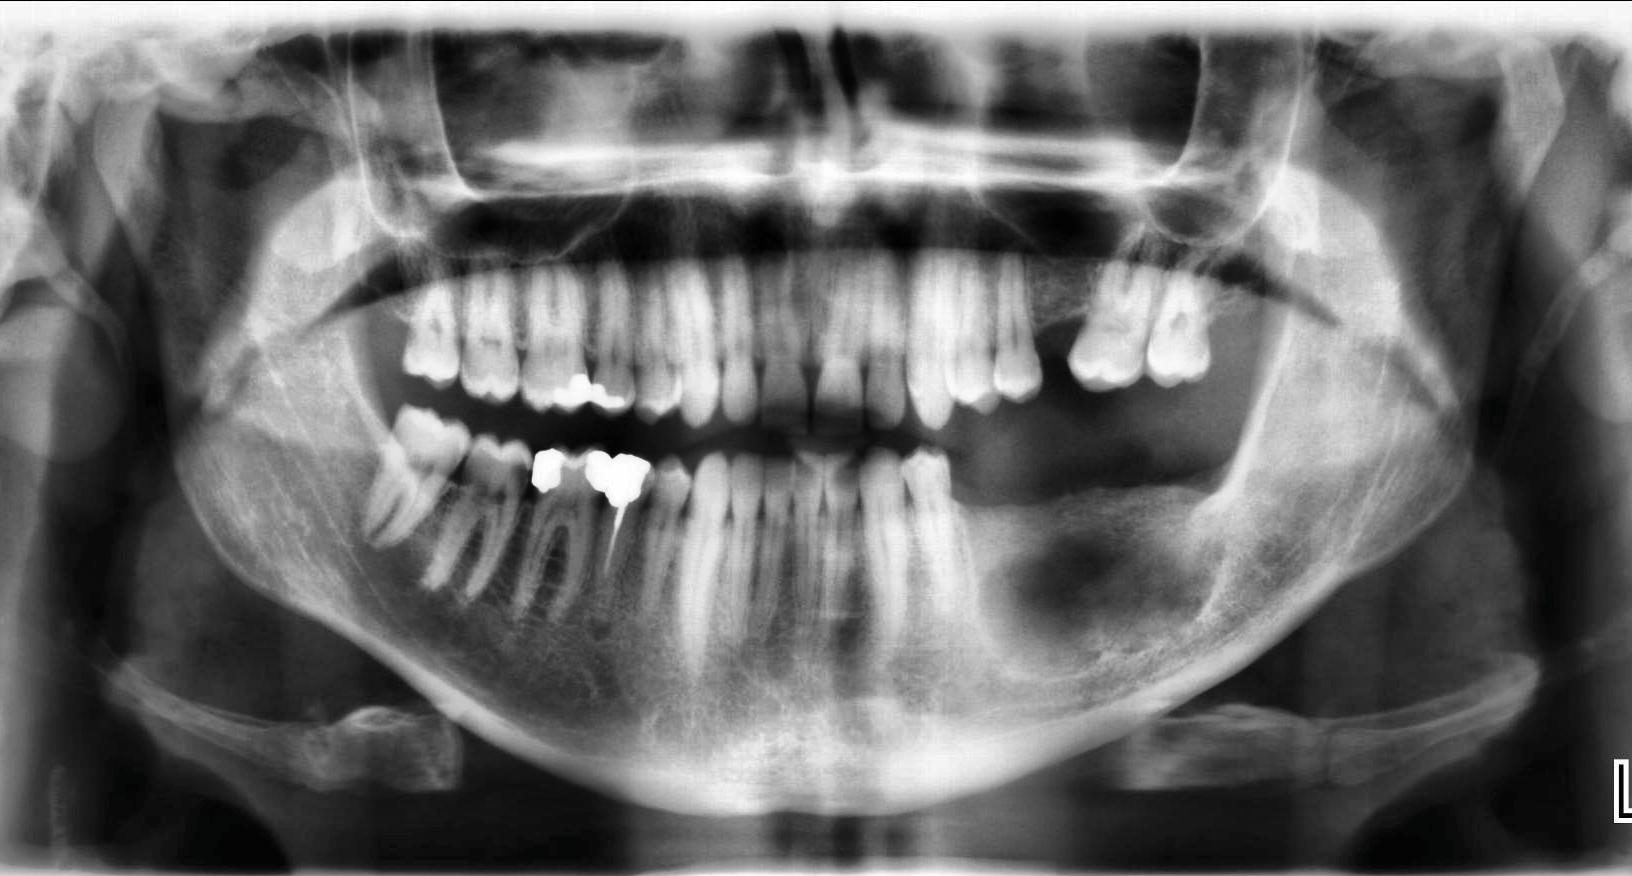keratokist: (976, 530, 1228, 683)
